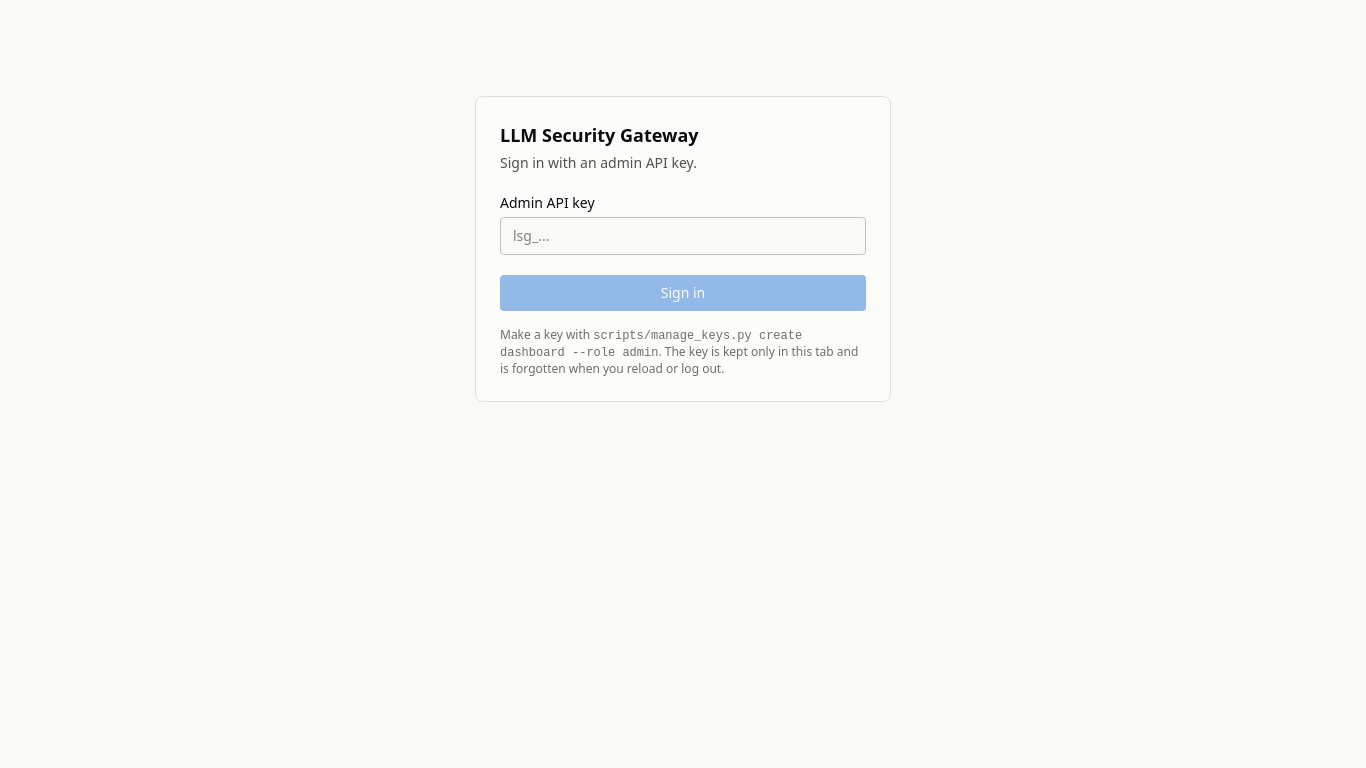
Test: signing in › opens the overview with a good admin key
The image size is (1366, 768).
In the password field labelled "Admin API key": (683, 236) [500,217,866,255], type "lsg_test-admin-key"
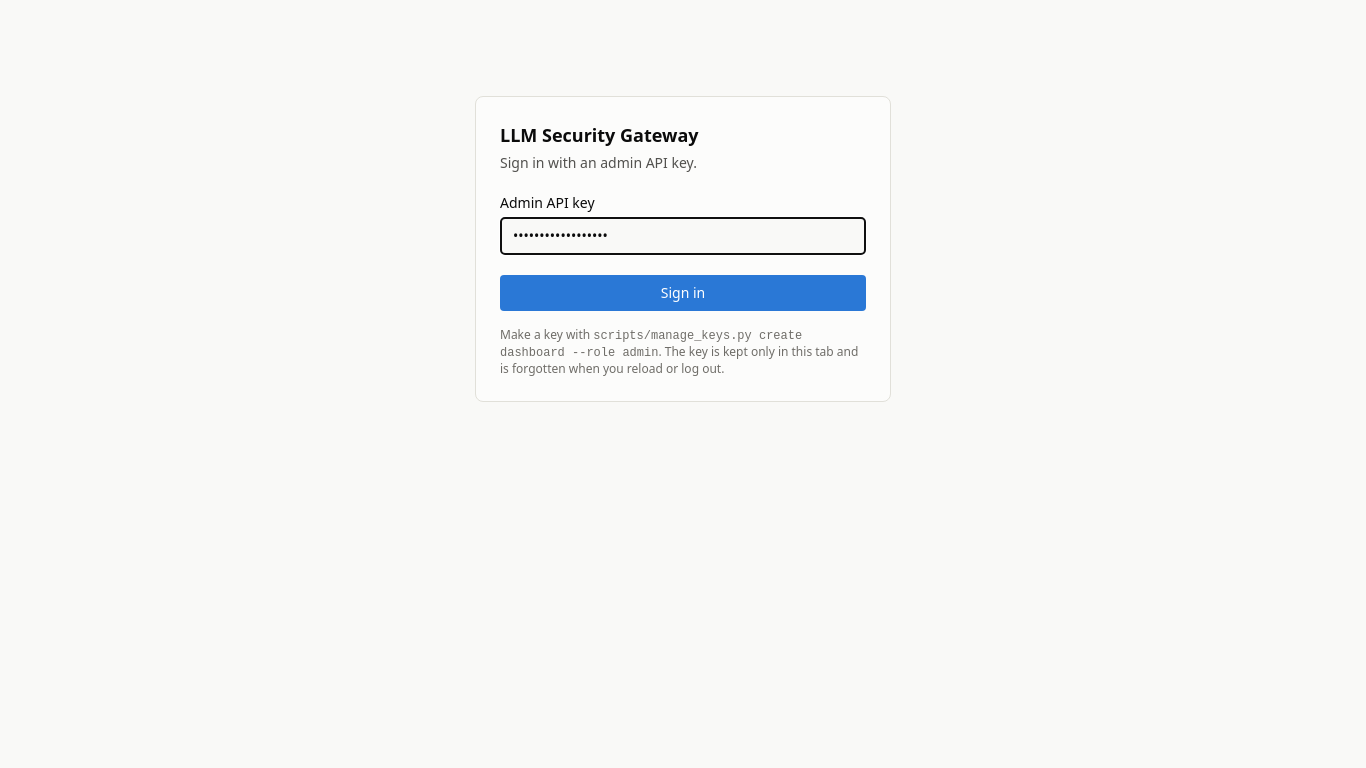
Click the button "Sign in": (683, 293) [500,275,866,311]
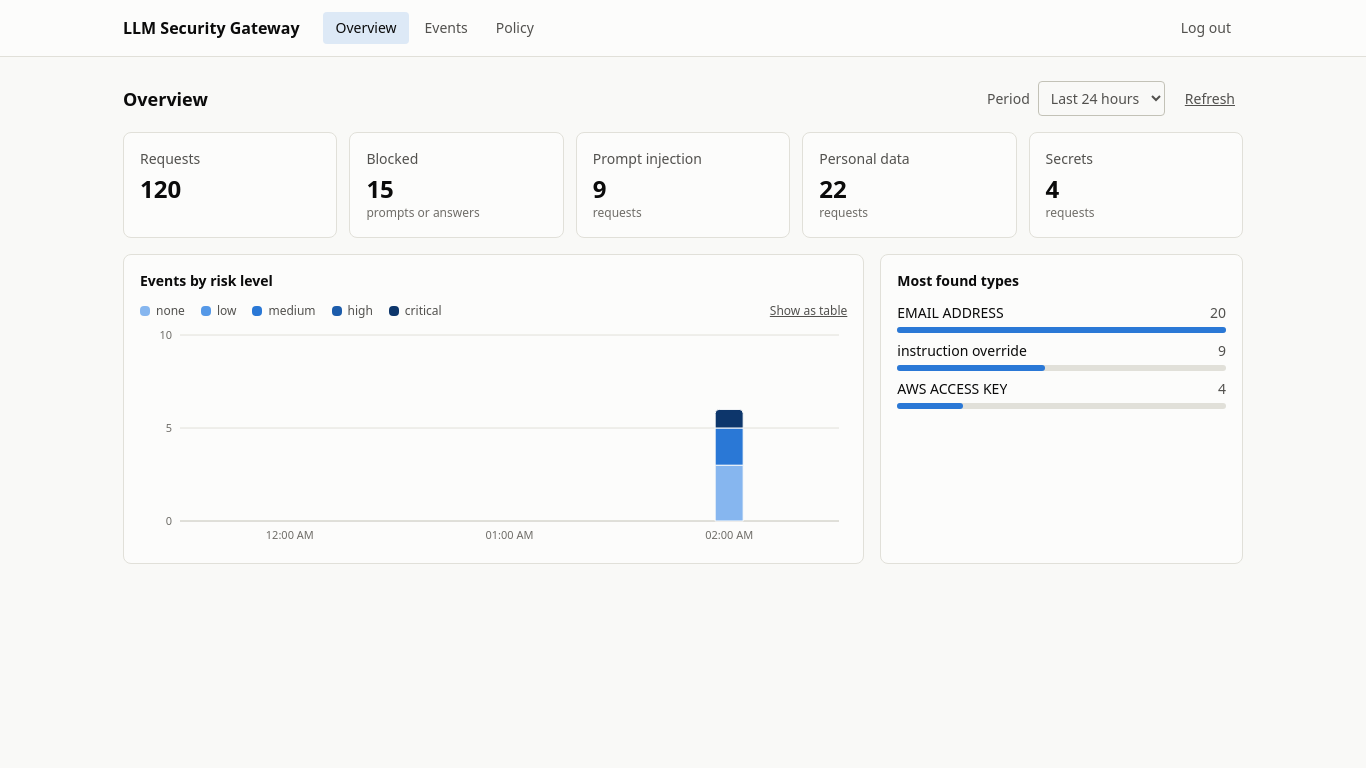
Expected: the heading "Overview" is shown, [123,84,208,112]
